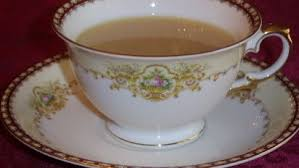cup: (50, 1, 292, 152)
